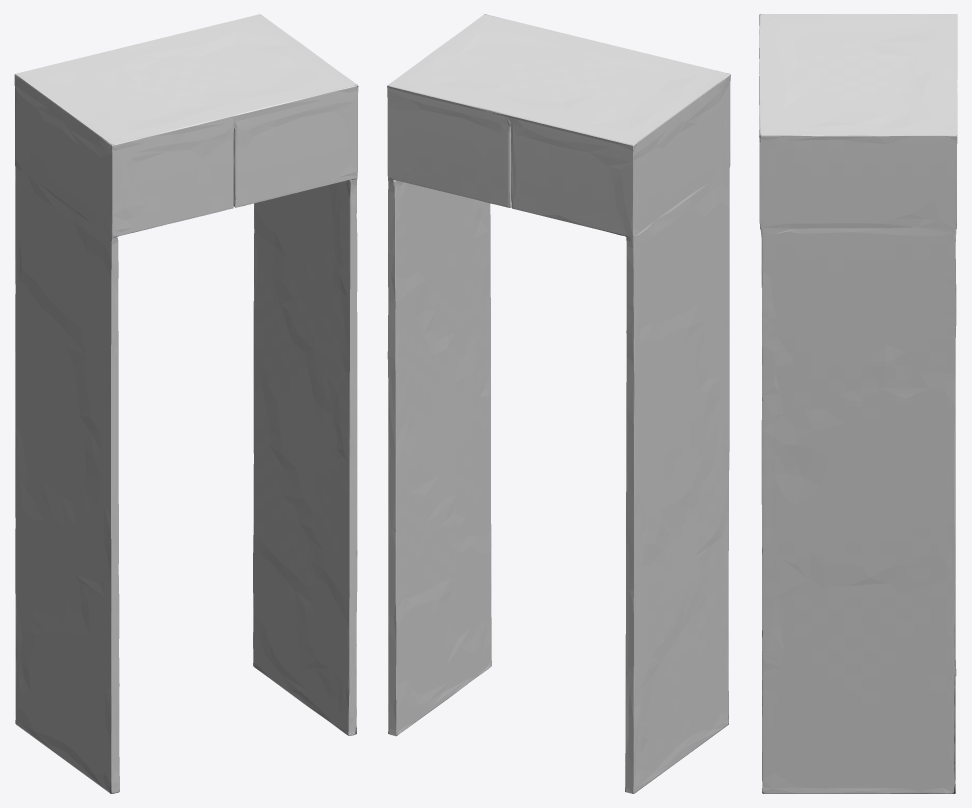
3 views of the same model, side by side, from view 1: azimuth 30°, elevation 25°; view 2: azimuth 150°, elevation 25°; view 3: azimuth 270°, elevation 25° (orthographic).
Parts seen in each view (by area): view 1: world; view 2: world; view 3: world.
Part boxes in pixels (left/top/right/bottom): world: left=14, top=14, right=358, bottom=793; world: left=387, top=14, right=730, bottom=793; world: left=759, top=14, right=957, bottom=793.
Size of the model in its own units: 0.3971 by 1 by 0.2728.
Materials: 1 (1 with a texture image).
